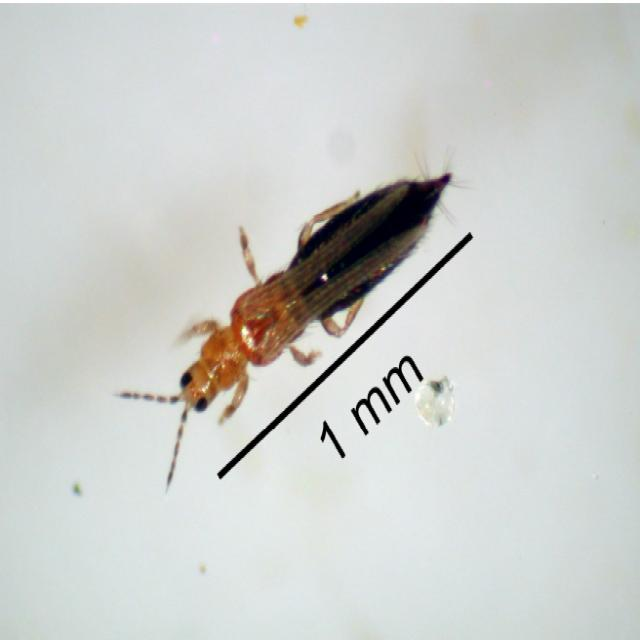Thrip-Adult-: (116, 143, 476, 502)
